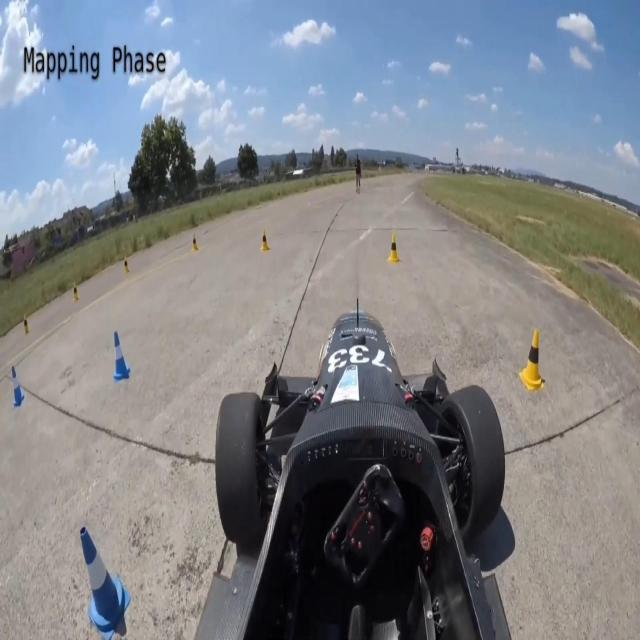blue_cone: (80, 525, 130, 640), (113, 331, 131, 383), (11, 365, 26, 408)
yellow_cone: (519, 328, 545, 390), (388, 233, 400, 265), (260, 229, 270, 251), (192, 233, 198, 252)
